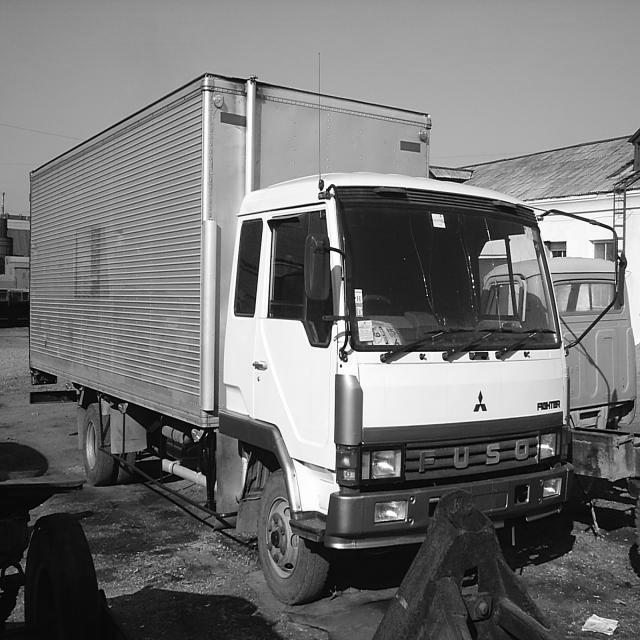truck: (199, 147, 625, 591)
